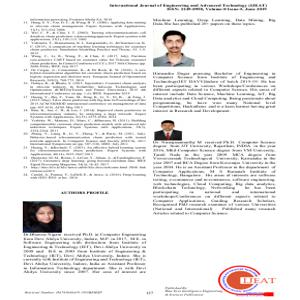image: (216, 264, 279, 298), (152, 30, 196, 66), (22, 199, 63, 233), (153, 118, 181, 141)
text: (22, 11, 148, 182), (151, 141, 275, 215), (150, 69, 279, 113), (23, 233, 149, 276), (151, 13, 276, 29), (105, 2, 270, 12)
